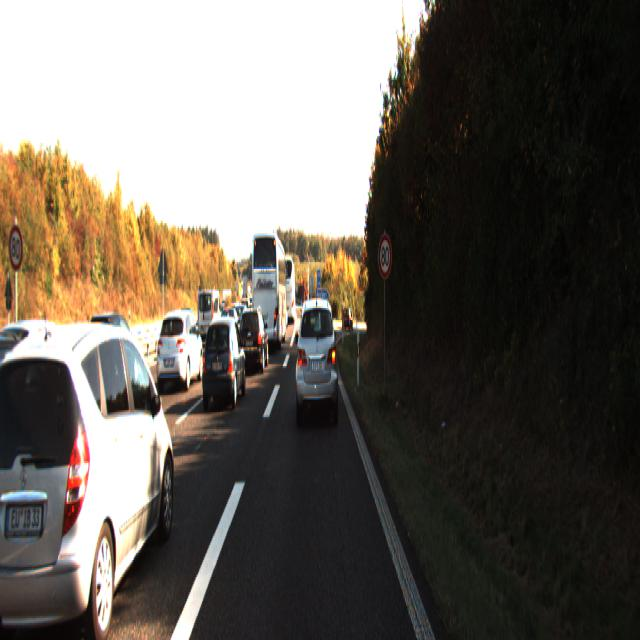Car: (0, 313, 178, 639), (0, 331, 77, 533), (0, 316, 90, 442), (294, 294, 338, 426), (85, 309, 141, 392), (250, 229, 287, 353), (200, 314, 247, 411), (155, 306, 204, 392), (237, 304, 269, 374), (196, 291, 222, 347), (281, 260, 296, 328), (342, 306, 353, 332)
